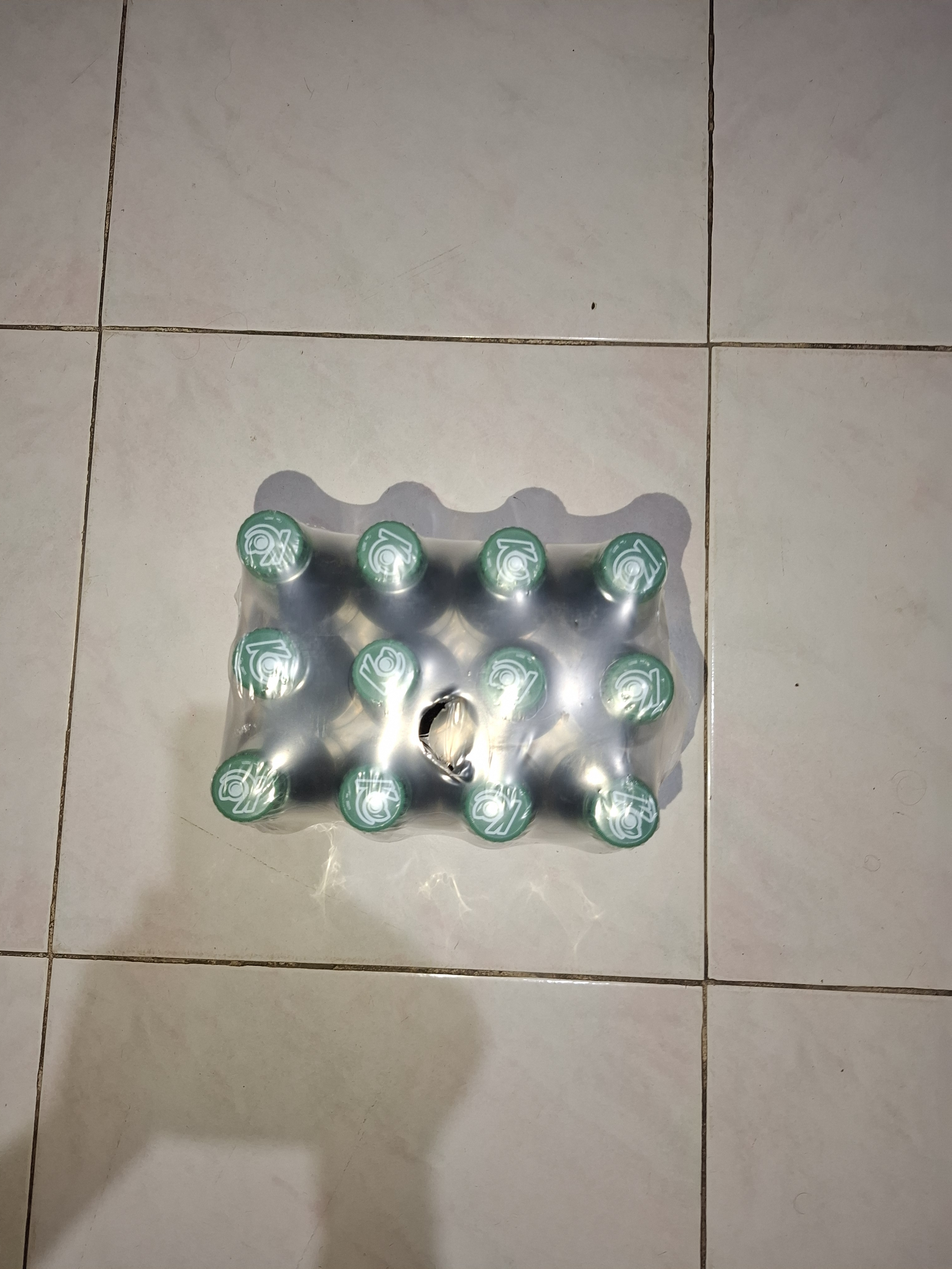Tampa Refrigerante Kuat: (232, 502, 314, 588), (599, 642, 677, 729), (350, 628, 428, 712), (353, 510, 426, 599), (476, 519, 551, 605), (212, 746, 291, 826), (478, 634, 552, 718), (236, 622, 314, 701), (336, 756, 411, 838), (586, 773, 664, 851), (597, 523, 672, 603), (464, 767, 535, 846)
